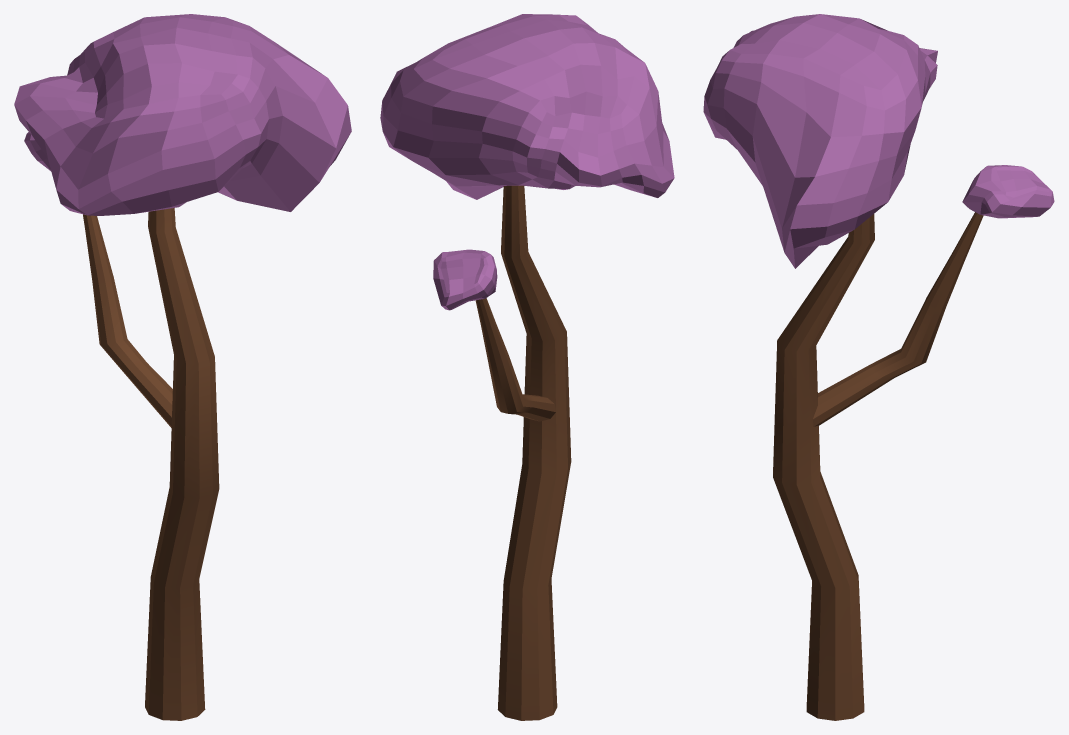
Rendered from treeTiny.fbx.
3 views of the same model, side by side, from view 1: azimuth 30°, elevation 25°; view 2: azimuth 150°, elevation 25°; view 3: azimuth 270°, elevation 25° (orthographic).
Parts seen in each view (by area): view 1: treeTiny; view 2: treeTiny; view 3: treeTiny.
Part boxes in pixels (<box>): treeTiny: <box>14,14,351,720</box>; treeTiny: <box>380,14,674,720</box>; treeTiny: <box>703,14,1054,720</box>.
Size of the model in its own units: 0.7639 by 1.76 by 0.8274.
